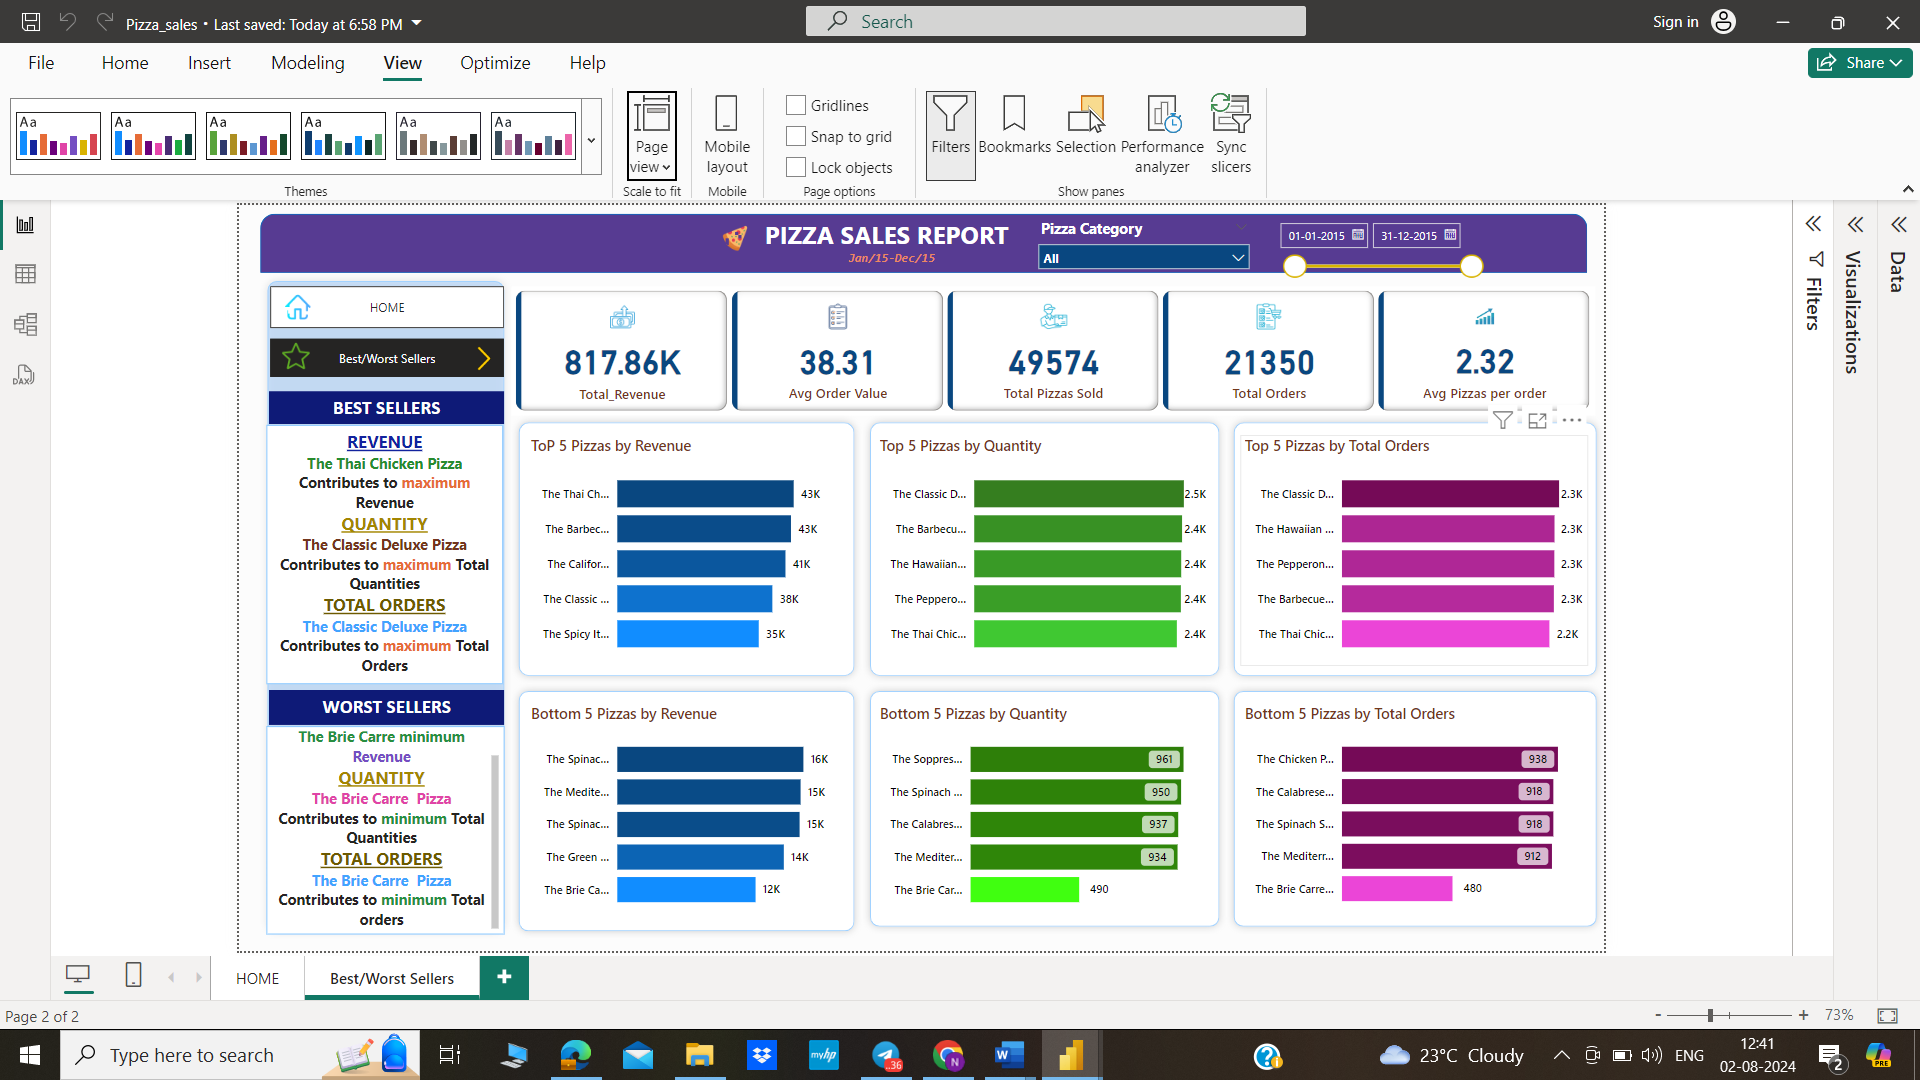

Layout of this report page (visuals, bound fields, positions):
{"tool":"powerbi","page":{"name":"Best/Worst Sellers","canvas":[1500,820],"ordinal":1},"visuals":[{"type":"cardVisual","fields":{"Data":["pizza_sales.Total_Revenue","pizza_sales.Avg Order Value","pizza_sales.Total Pizzas Sold","pizza_sales.Total Orders","pizza_sales.Avg Pizzas per order"]},"box":[300,88.8,1191.2,142.5],"z":0},{"type":"shape","box":[23.8,10,1458.8,65],"z":1000},{"type":"textbox","box":[572.5,10,286.2,56.2],"z":2000},{"type":"textbox","box":[655,43.8,123.8,45],"z":3000},{"type":"image","box":[520,17.5,52.5,37.5],"z":4000},{"type":"shape","box":[300,231.2,385,295],"z":5000},{"type":"shape","box":[23.8,75,276.2,731.2],"z":6000},{"type":"textbox","box":[32.5,205,258.8,36.2],"z":7000},{"type":"textbox","box":[30,241.2,260,285],"z":8000},{"type":"textbox","box":[32.5,533.8,258.8,38.8],"z":9000},{"type":"textbox","box":[30,572.5,261.2,228.8],"z":10000},{"type":"slicer","fields":{"Values":["pizza_sales.pizza_category"]},"box":[868.8,10,252.5,65],"z":11000},{"type":"slicer","fields":{"Values":["pizza_sales.order_date"]},"box":[1132.5,10,243.8,78.8],"z":12000},{"type":"shape","box":[685,231.2,400,295],"z":13000},{"type":"shape","box":[1085,231.2,415,295],"z":14000},{"type":"shape","box":[300,526.2,385,280],"z":15000},{"type":"shape","box":[685,526.2,400,275],"z":16000},{"type":"shape","box":[1085,526.2,415,275],"z":17000},{"type":"barChart","title":"ToP 5 Pizzas by Revenue","fields":{"Category":["pizza_sales.pizza_name"],"Y":["pizza_sales.Total_Revenue"]},"box":[316.2,252.5,348.8,255],"z":18000},{"type":"barChart","title":"Bottom 5 Pizzas by Revenue","fields":{"Category":["pizza_sales.pizza_name"],"Y":["pizza_sales.Total_Revenue"]},"box":[316.2,546.2,348.8,240],"z":19000},{"type":"barChart","title":"Top 5 Pizzas by Quantity","fields":{"Category":["pizza_sales.pizza_name"],"Y":["pizza_sales.Total Pizzas Sold"]},"box":[698.8,252.5,368.8,255],"z":20000},{"type":"barChart","title":"Bottom 5 Pizzas by Quantity","fields":{"Category":["pizza_sales.pizza_name"],"Y":["pizza_sales.Total Pizzas Sold"]},"box":[698.8,546.2,368.8,240],"z":21000},{"type":"barChart","title":"Top 5 Pizzas by Total Orders","fields":{"Category":["pizza_sales.pizza_name"],"Y":["pizza_sales.Total Orders"]},"box":[1101.2,252.5,381.2,255],"z":22000},{"type":"barChart","title":"Bottom 5 Pizzas by Total Orders","fields":{"Category":["pizza_sales.pizza_name"],"Y":["pizza_sales.Total Orders"]},"box":[1101.2,546.2,381.2,238.8],"z":23000},{"type":"pageNavigator","box":[33.8,88.8,257.5,46.2],"z":24000},{"type":"pageNavigator","box":[33.8,147.5,257.5,42.5],"z":25000},{"type":"image","box":[42.5,93.8,43.8,37.5],"z":26000},{"type":"image","box":[248.8,151.2,41.2,35],"z":27000},{"type":"image","box":[42.5,143.8,40,42.5],"z":28000}]}

Visuals, with their boxes on the page's 1500x820 design canvas (x1, y1, x2, y2). These are canvas units, not pixel positions in the 1920x1080 screenshot, which may show the page scaled, cropped or inside an application window:
cardVisual - pizza_sales.Total_Revenue x pizza_sales.Avg Order Value: bbox(300, 89, 1491, 231)
shape: bbox(24, 10, 1483, 75)
textbox: bbox(572, 10, 859, 66)
textbox: bbox(655, 44, 779, 89)
image: bbox(520, 18, 572, 55)
shape: bbox(300, 231, 685, 526)
shape: bbox(24, 75, 300, 806)
textbox: bbox(32, 205, 291, 241)
textbox: bbox(30, 241, 290, 526)
textbox: bbox(32, 534, 291, 573)
textbox: bbox(30, 572, 291, 801)
slicer - pizza_sales.pizza_category: bbox(869, 10, 1121, 75)
slicer - pizza_sales.order_date: bbox(1132, 10, 1376, 89)
shape: bbox(685, 231, 1085, 526)
shape: bbox(1085, 231, 1500, 526)
shape: bbox(300, 526, 685, 806)
shape: bbox(685, 526, 1085, 801)
shape: bbox(1085, 526, 1500, 801)
"ToP 5 Pizzas by Revenue" barChart: bbox(316, 252, 665, 508)
"Bottom 5 Pizzas by Revenue" barChart: bbox(316, 546, 665, 786)
"Top 5 Pizzas by Quantity" barChart: bbox(699, 252, 1068, 508)
"Bottom 5 Pizzas by Quantity" barChart: bbox(699, 546, 1068, 786)
"Top 5 Pizzas by Total Orders" barChart: bbox(1101, 252, 1482, 508)
"Bottom 5 Pizzas by Total Orders" barChart: bbox(1101, 546, 1482, 785)
pageNavigator: bbox(34, 89, 291, 135)
pageNavigator: bbox(34, 148, 291, 190)
image: bbox(42, 94, 86, 131)
image: bbox(249, 151, 290, 186)
image: bbox(42, 144, 82, 186)
